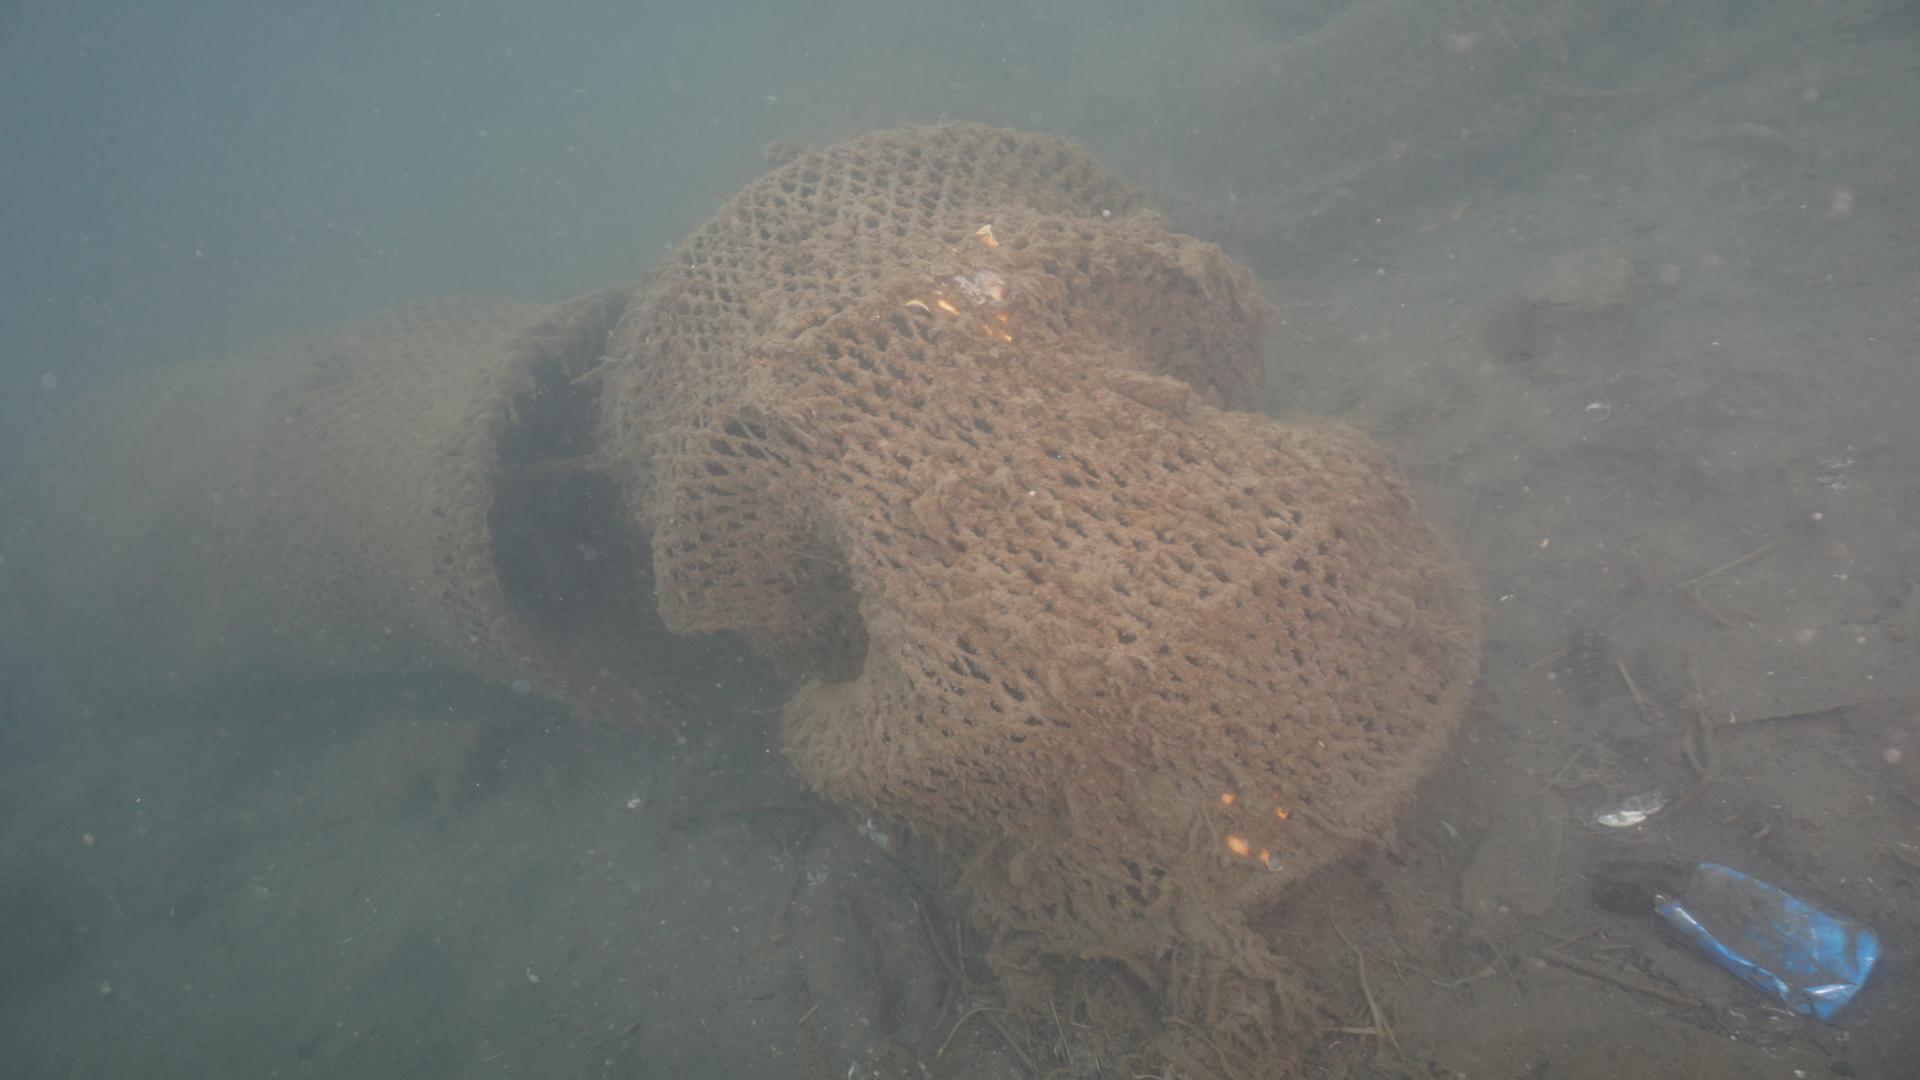spring fish trap: (589, 108, 1491, 957), (0, 274, 655, 713)
